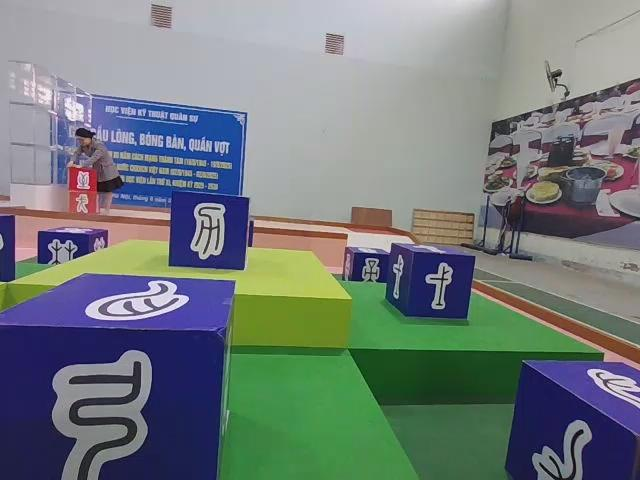R2 Fake Blue: (0, 270, 239, 480), (168, 190, 254, 272)
R2 Real Blue: (506, 363, 639, 480), (386, 244, 476, 320), (38, 229, 109, 267), (343, 247, 391, 284), (0, 216, 17, 286)
